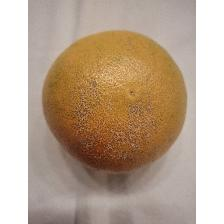Pampelmuse: (40, 28, 188, 176)
